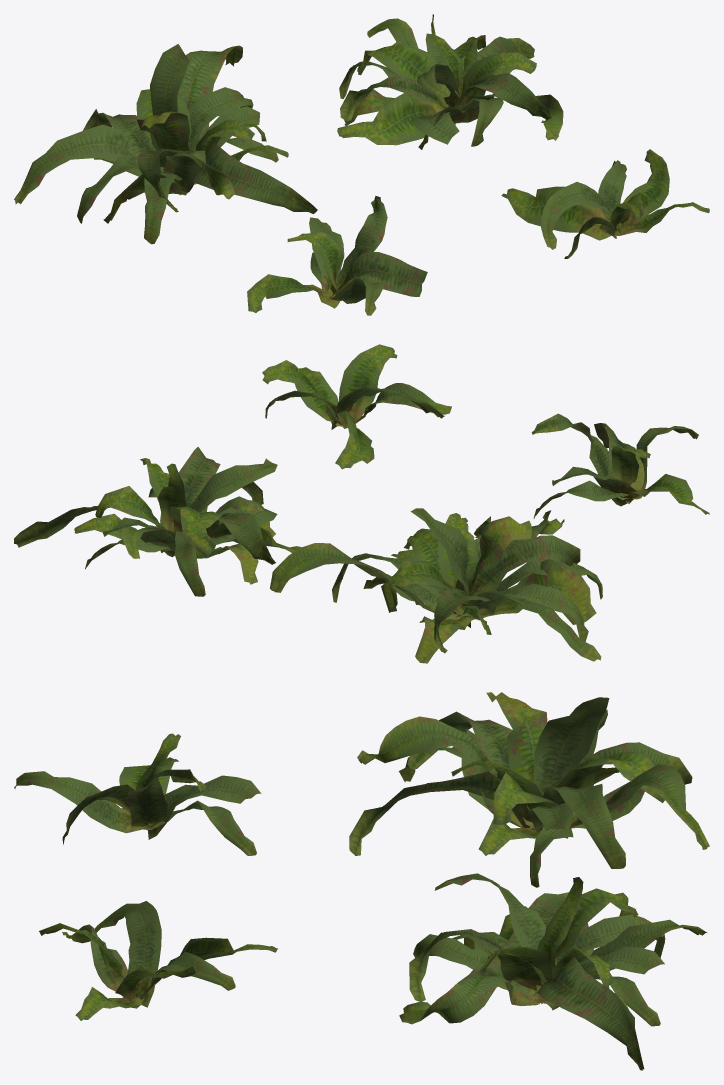
File: fern.glb
3 renders of one model, top to bottom at view 1: azimuth 30°, elevation 25°; view 2: azimuth 150°, elevation 25°; view 3: azimuth 270°, elevation 25°, orthographic. The views are drawn at different scales.
Parts seen in each view (by area): view 1: fern_02_b, fern_02_c, fern_02_d, fern_02_a; view 2: fern_02_b, fern_02_c, fern_02_d, fern_02_a; view 3: fern_02_b, fern_02_c, fern_02_a, fern_02_d.
Part boxes in pixels (x1,y1,x2,y2): fern_02_b: (14,44,317,244); fern_02_c: (337,14,563,149); fern_02_d: (501,149,709,258); fern_02_a: (247,196,427,315); fern_02_b: (270,508,602,663); fern_02_c: (14,447,301,596); fern_02_d: (262,344,451,469); fern_02_a: (531,413,709,518); fern_02_b: (349,692,709,887); fern_02_c: (399,873,707,1070); fern_02_a: (14,733,261,855); fern_02_d: (39,901,277,1020).
Size of the model in its own units: 1.97 by 0.4277 by 1.72.
1 material, 1 textured.
